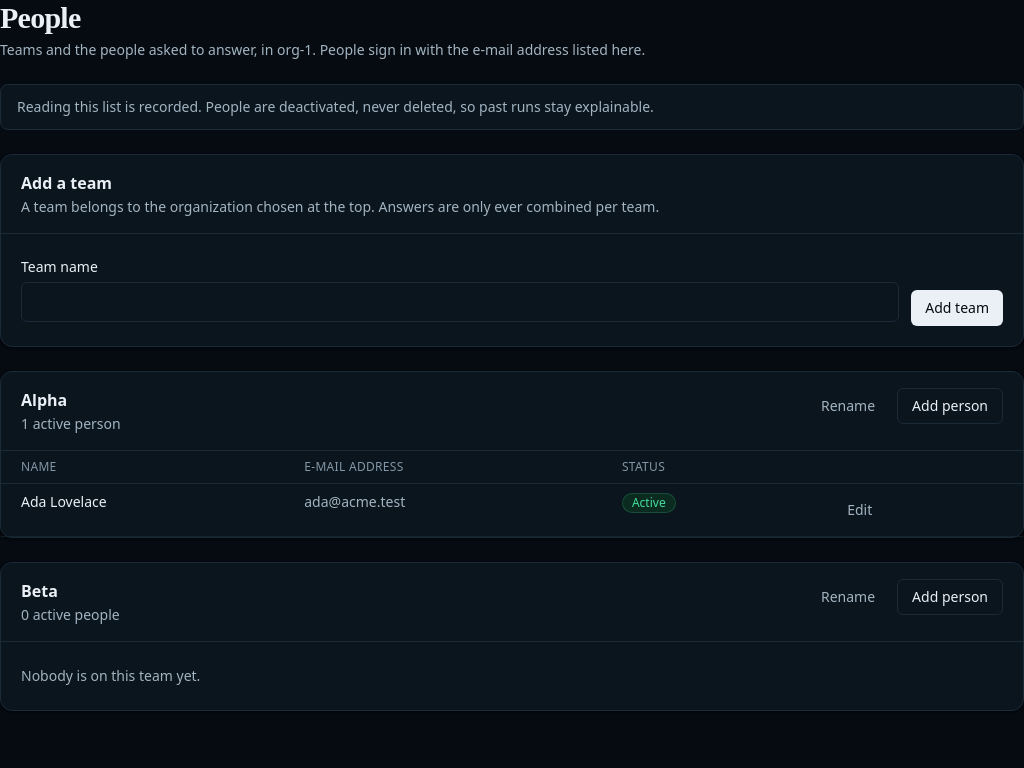
Scenario: PeoplePage › adds a team and shows it
Expected: the element named "Team Alpha" is shown, [0,371,1023,538]
In the field labelled "Team name": (460, 302) [21,282,899,322], type "Gamma"
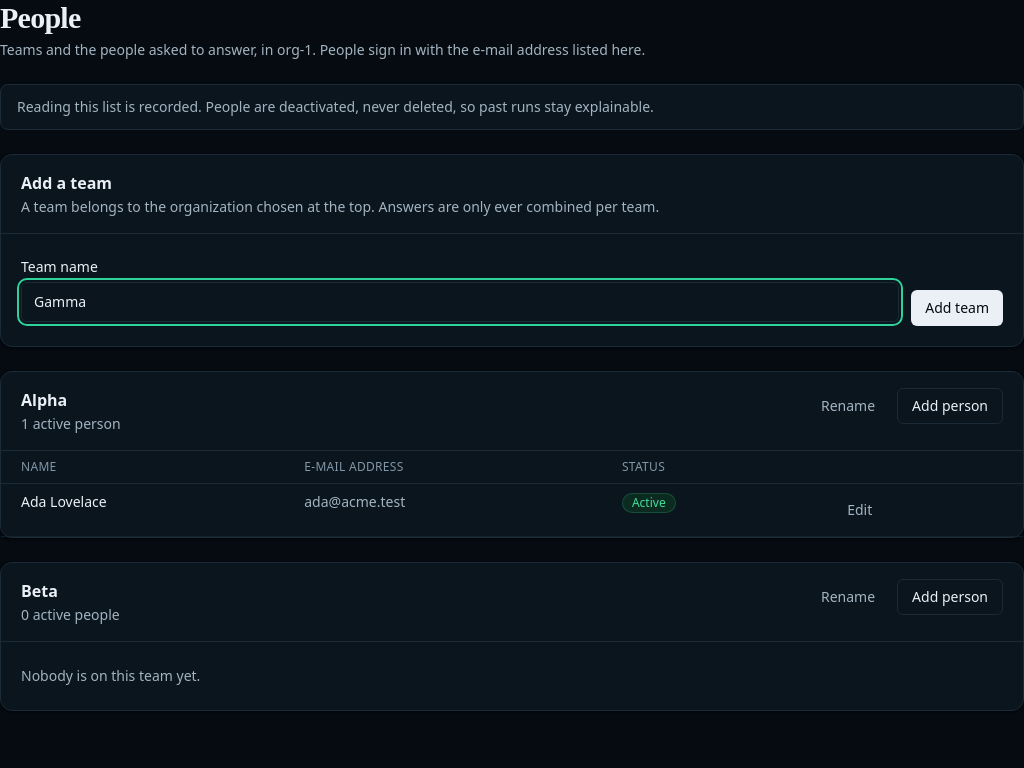
Click the button "Add team": (957, 308) [911,290,1003,326]
(page scrolled)
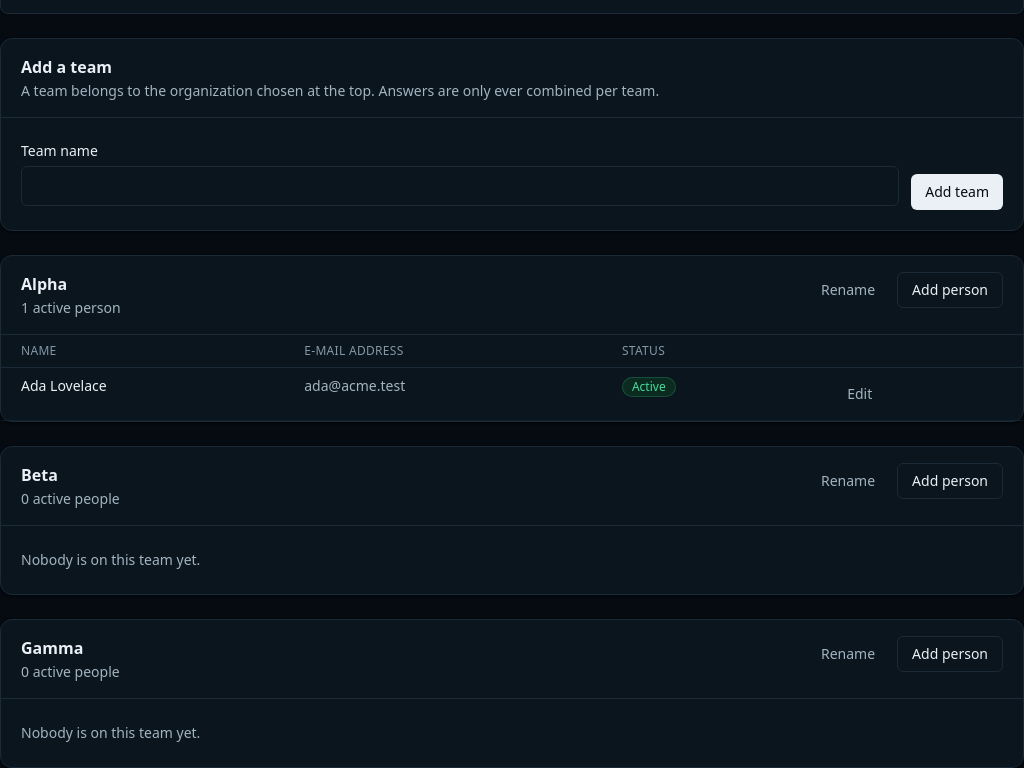
Now the element named "Team Gamma" is shown, box [0,619,1023,767]
